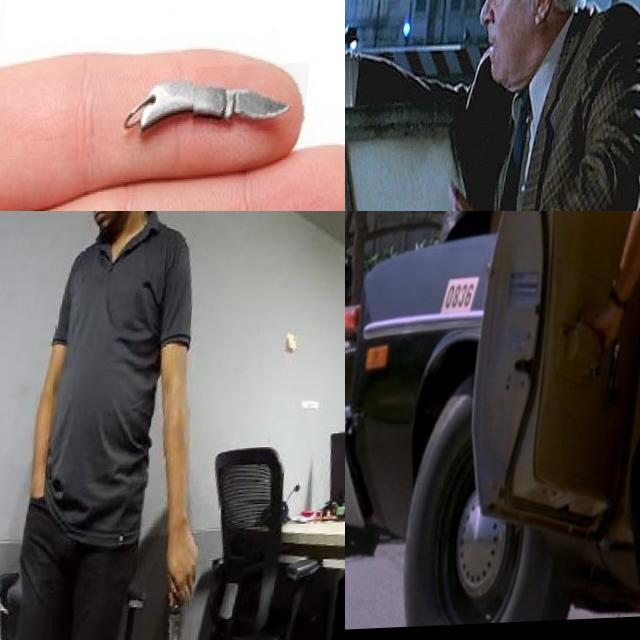-: (194, 68, 313, 138), (167, 594, 204, 640)
gun-knife-thesis - v11 Yolov5 augmented: (345, 0, 381, 88), (345, 211, 368, 241)
